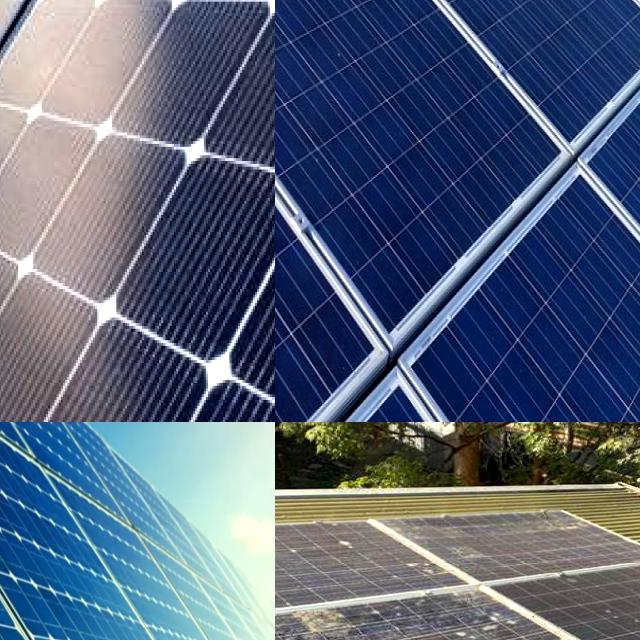bird: (416, 608, 524, 640), (280, 596, 362, 636), (399, 548, 472, 584), (275, 529, 336, 572), (310, 519, 369, 551), (275, 550, 290, 586)
crack: (0, 0, 275, 422), (275, 0, 574, 350), (278, 0, 640, 186), (0, 422, 275, 640), (443, 0, 640, 126)
